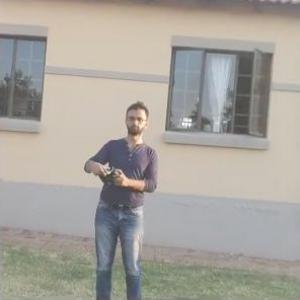follow: (77, 93, 165, 299)
